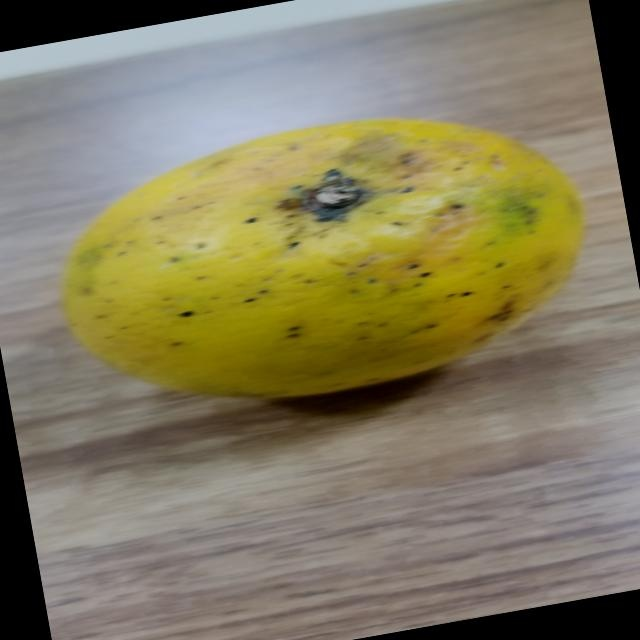agrume: (31, 68, 609, 456)
